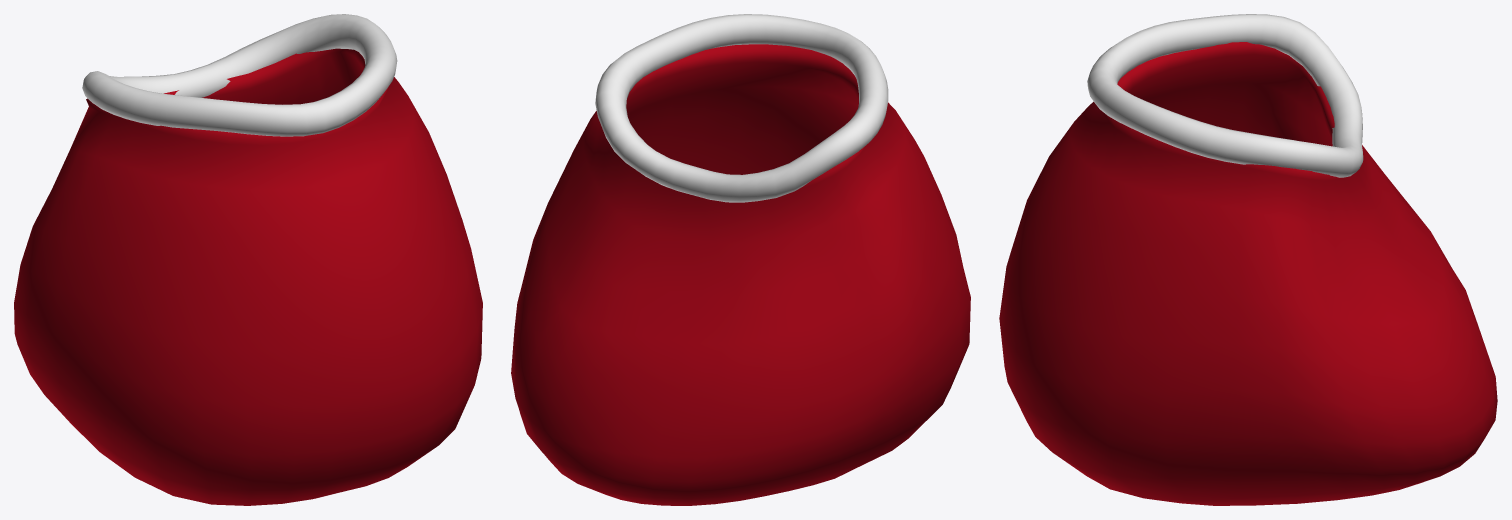
The model's file is empty_christmas_sack.glb.
3 views of the same model, side by side, from view 1: azimuth 30°, elevation 25°; view 2: azimuth 150°, elevation 25°; view 3: azimuth 270°, elevation 25° (orthographic). The views are drawn at different scales.
Parts seen in each view (by area): view 1: sack; view 2: sack; view 3: sack.
Part boxes in pixels (<box>): sack: <box>14,14,482,505</box>; sack: <box>511,14,970,505</box>; sack: <box>999,14,1497,505</box>.
Size of the model in its own units: 2.34 by 2.29 by 2.57.
